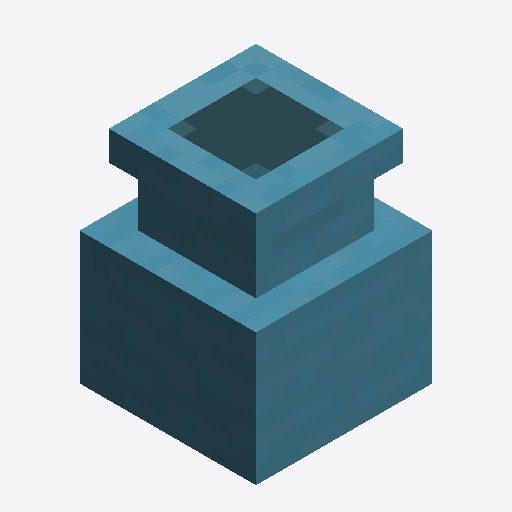
Isometric view (azimuth 45°, elevation 35.3°) of a Minecraft model made of 3 cuboids, textured from the same repository.
Visible parts, largest first — element 1, element 3, element 2.
Boxes of the visible parts, x1,y1,x2,y2 form: element 1: [80, 197, 431, 484]; element 3: [109, 44, 402, 246]; element 2: [138, 180, 373, 297].
Bounding box in the file's own units: 12 × 15 × 12.